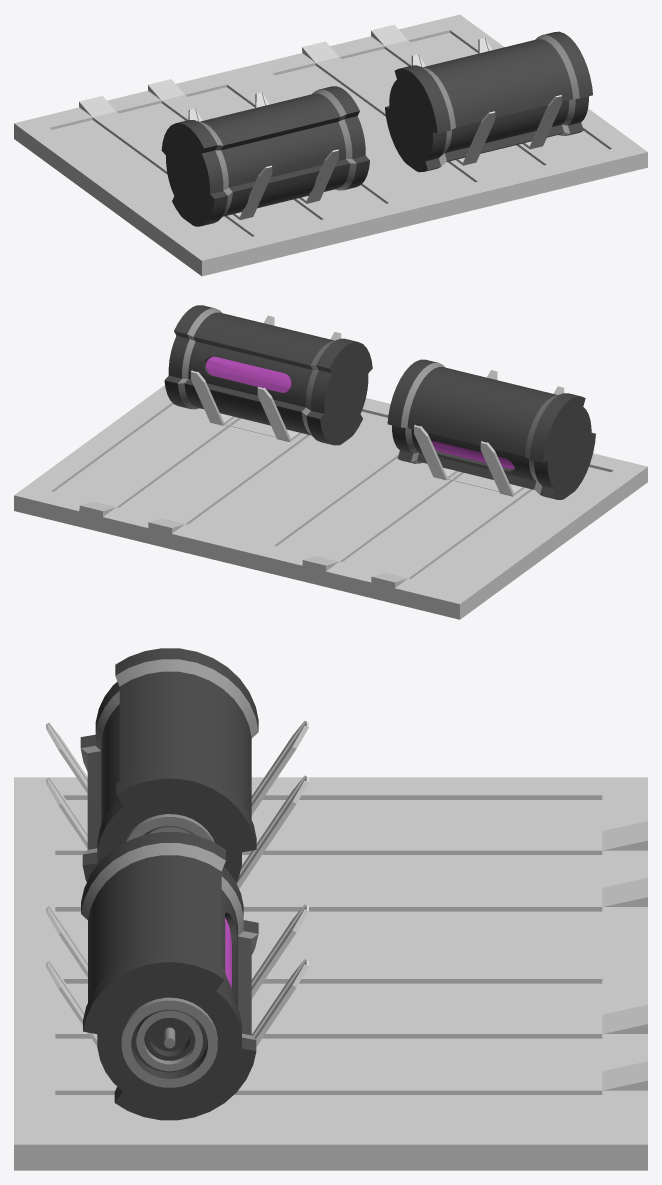
The model's file is Platforma1_2.fbx.
3 renders of one model, top to bottom at view 1: azimuth 30°, elevation 25°; view 2: azimuth 150°, elevation 25°; view 3: azimuth 270°, elevation 25°, orthographic. The views are drawn at different scales.
Visible parts, largest first — view 1: Platforma, Container2, Container, Blokada1Tyl, Blokada2Tyl; view 2: Platforma, Container2, Container, Blokada2, Blokada1; view 3: Platforma, Container, Container2, Blokada2, Blokada1, Blokada1Tyl, Blokada2Tyl.
Part boxes in pixels (bbox=[...]): Platforma: bbox=[14, 14, 647, 276]; Container2: bbox=[161, 86, 369, 226]; Container: bbox=[385, 31, 592, 172]; Blokada1Tyl: bbox=[456, 95, 561, 165]; Blokada2Tyl: bbox=[232, 149, 338, 219]; Platforma: bbox=[14, 385, 647, 619]; Container2: bbox=[387, 359, 595, 499]; Container: bbox=[164, 305, 372, 445]; Blokada2: bbox=[414, 424, 514, 495]; Blokada1: bbox=[191, 370, 291, 441]; Platforma: bbox=[14, 777, 647, 1170]; Container: bbox=[81, 832, 258, 1120]; Container2: bbox=[80, 648, 258, 882]; Blokada2: bbox=[236, 721, 308, 888]; Blokada1: bbox=[251, 904, 308, 1046]; Blokada1Tyl: bbox=[46, 906, 97, 1046]; Blokada2Tyl: bbox=[46, 723, 87, 848].
Bounding box in the file's own units: 1188 × 275 × 867.
